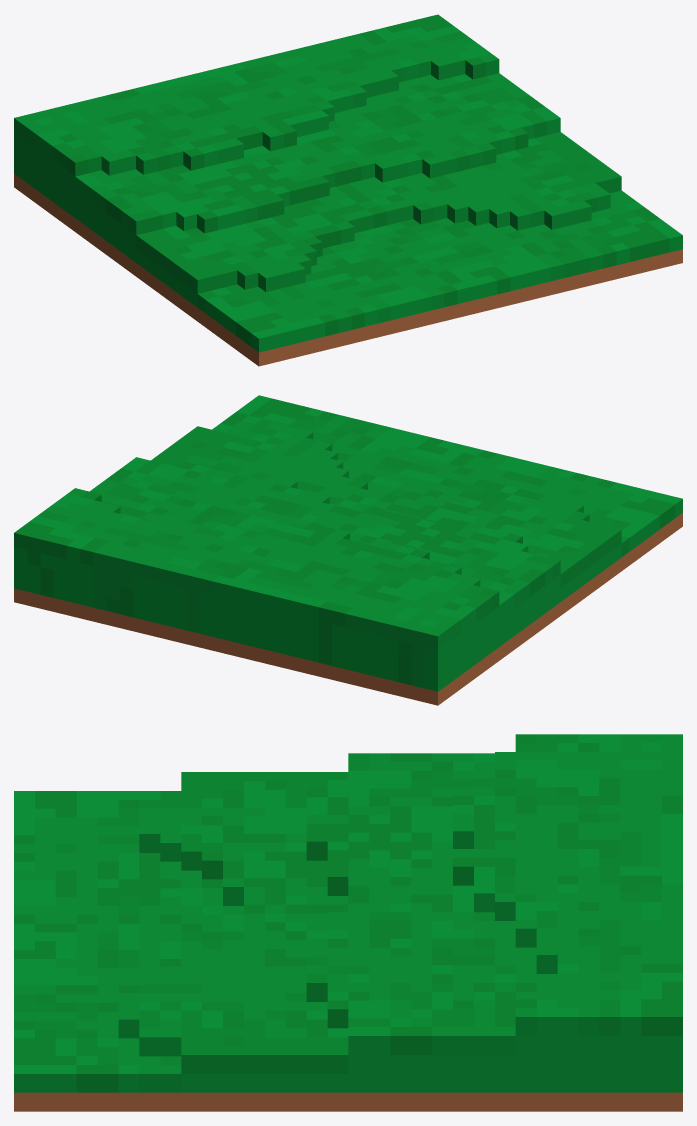
The model's file is forest-uneven-side-1.gltf.
The picture shows the model from 3 angles, top to bottom: view 1: azimuth 30°, elevation 25°; view 2: azimuth 150°, elevation 25°; view 3: azimuth 270°, elevation 25°; orthographic projection. The views are drawn at different scales.
Parts seen in each view (by area): view 1: forest-uneven-side-1; view 2: forest-uneven-side-1; view 3: forest-uneven-side-1.
Boxes of the visible parts, box(x1,y1,x2,y2) form: forest-uneven-side-1: box(14, 14, 682, 366); forest-uneven-side-1: box(14, 395, 682, 705); forest-uneven-side-1: box(14, 734, 682, 1111).
Size of the model in its own units: 3.2 by 0.5 by 3.2.
Materials: 1 (1 with a texture image).
